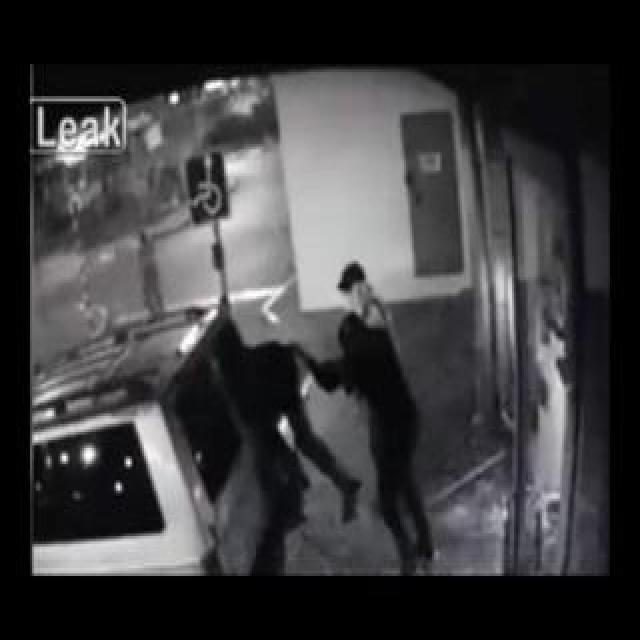thief: (324, 248, 399, 426), (219, 338, 299, 471)
